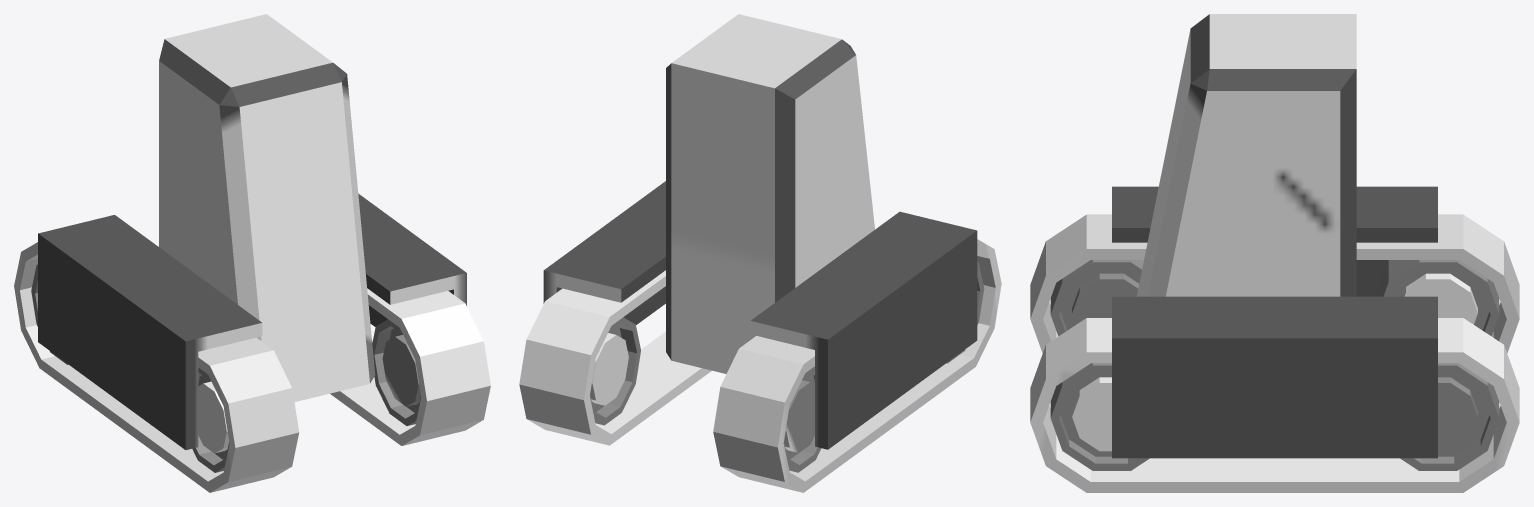
File: enemyBodySG01.obj
3 renders of one model, left to right at view 1: azimuth 30°, elevation 25°; view 2: azimuth 150°, elevation 25°; view 3: azimuth 270°, elevation 25°, orthographic. The views are drawn at different scales.
Parts seen in each view (by area): view 1: 小型近接敵; view 2: 小型近接敵; view 3: 小型近接敵.
Part boxes in pixels (x1,y1,x2,y2): 小型近接敵: [14, 14, 490, 492]; 小型近接敵: [519, 14, 1001, 492]; 小型近接敵: [1030, 14, 1519, 492].
Size of the model in its own units: 1.65 by 1.94 by 2.25.
1 material, 1 textured.
